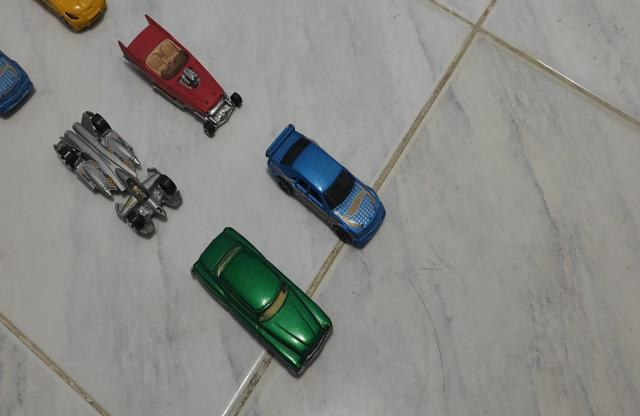03_V8: (117, 12, 244, 139)
04_MERZEDES: (264, 124, 388, 251), (0, 49, 35, 118)
05_DC121: (51, 110, 183, 240)
06_MASERATI: (189, 228, 334, 380)
07_RHLTURBO: (33, 0, 108, 35)
